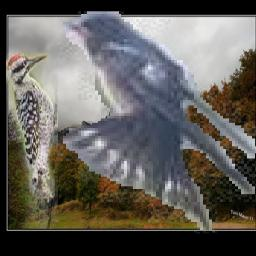Swallow: (57, 12, 256, 234)
Woodpecker: (6, 53, 58, 229)
